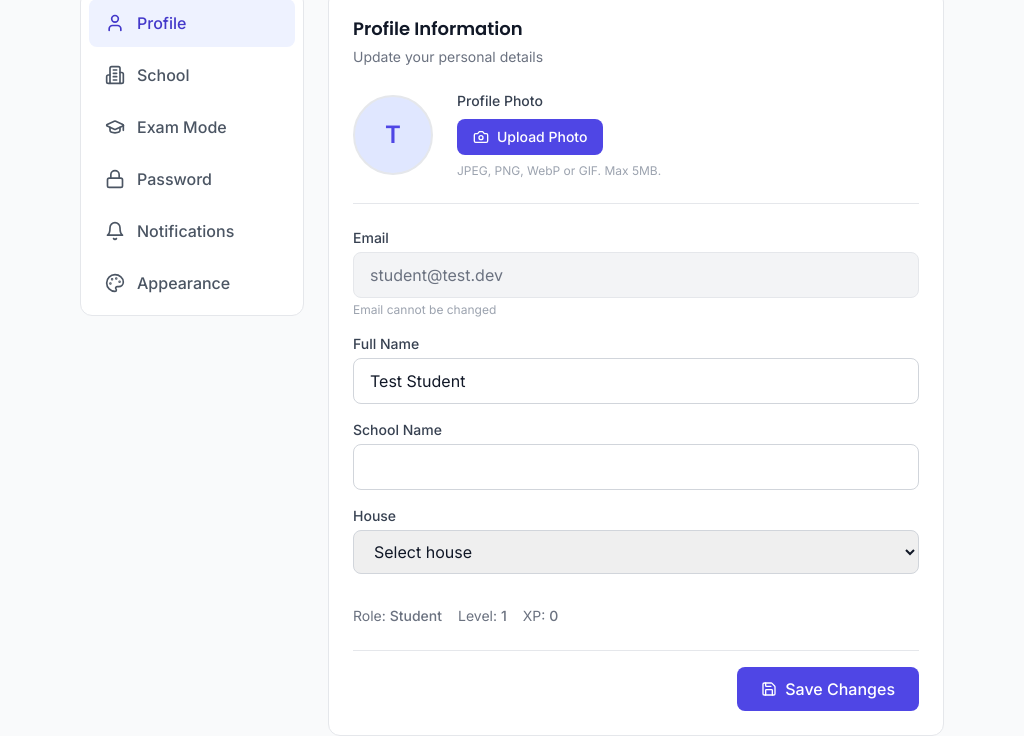
Test: Settings other tabs › saves profile changes through the API and updates the auth store
The width and height of the screenshot is (1024, 736).
(page scrolled)
Step 1. Click the button "Save Changes" → [828, 689], box x1=737 y1=667 x2=919 y2=711
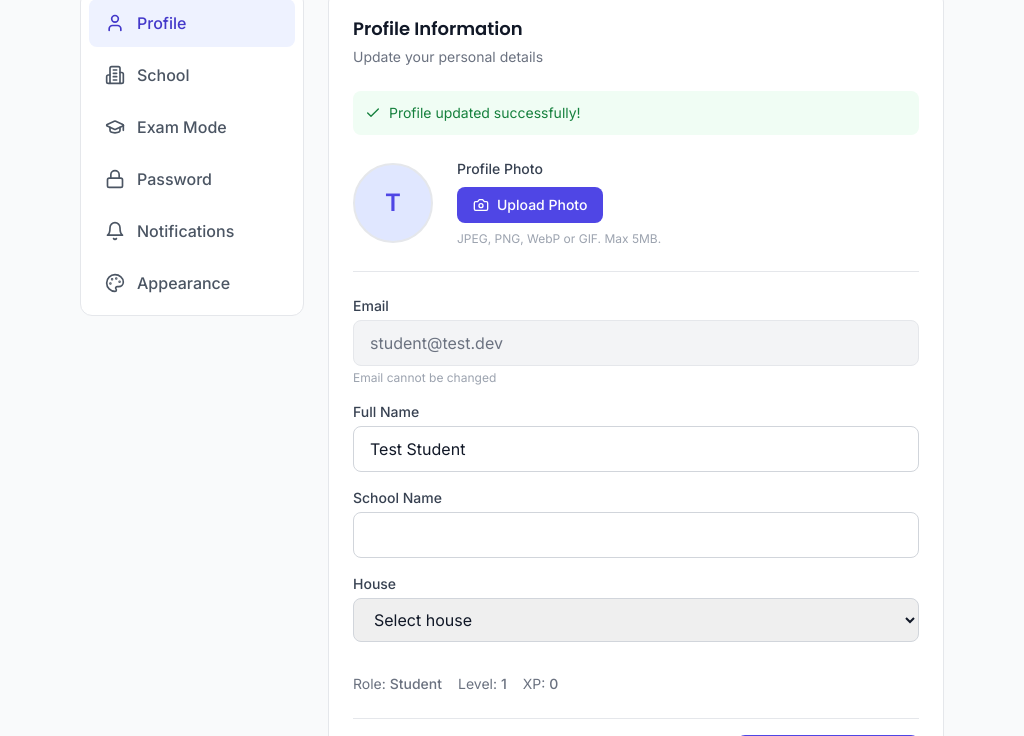
expect the text "Profile updated successfully!" is shown: met, box x1=353 y1=91 x2=919 y2=135
